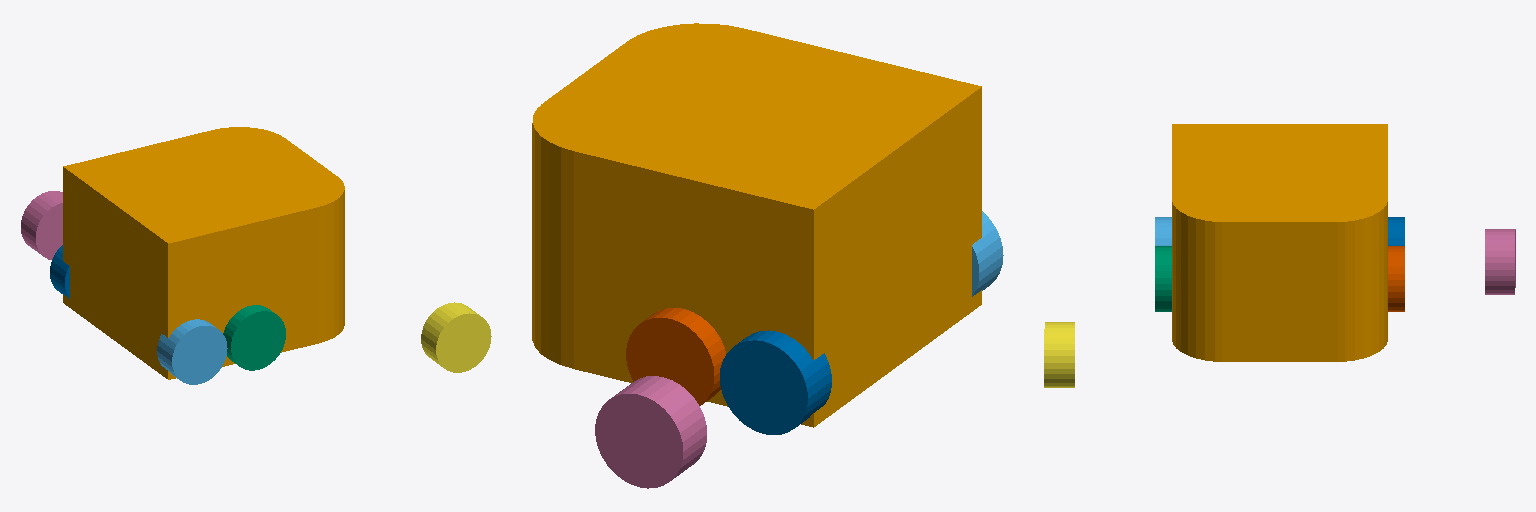
robot.urdf — [local-path]/Library/Mobile Documents/com~apple~CloudDocs/Deskto:
<?xml version="1.0"?>
<robot name="[local-path]/Library/Mobile Documents/com~apple~CloudDocs/Desktop/Roboland/Multi-Agent/BECOv2/simulation/BECOV2_ws/urdf/Koala.urdf" xmlns:xacro="http://ros.org/wiki/xacro">
  <link name="base_link">
    <visual>
      <origin xyz="0.025 0 0.105" rpy="0 0 0"/>
      <geometry>
        <box size="0.3 0.15 0.2"/>
      </geometry>
    </visual>
    <collision>
      <origin xyz="0.025 0 0.105" rpy="0 0 0"/>
      <geometry>
        <box size="0.3 0.15 0.2"/>
      </geometry>
    </collision>
    <visual>
      <origin xyz="-0.01 0 0.105" rpy="0 0 0"/>
      <geometry>
        <box size="0.23 0.28 0.2"/>
      </geometry>
    </visual>
    <collision>
      <origin xyz="-0.01 0 0.105" rpy="0 0 0"/>
      <geometry>
        <box size="0.23 0.28 0.2"/>
      </geometry>
    </collision>
    <visual>
      <origin xyz="0.105 -0.07 0.105" rpy="0 0 0"/>
      <geometry>
        <cylinder radius="0.07" length="0.2"/>
      </geometry>
    </visual>
    <collision>
      <origin xyz="0.105 -0.07 0.105" rpy="0 0 0"/>
      <geometry>
        <cylinder radius="0.07" length="0.2"/>
      </geometry>
    </collision>
    <visual>
      <origin xyz="0.105 0.07 0.105" rpy="0 0 0"/>
      <geometry>
        <cylinder radius="0.07" length="0.2"/>
      </geometry>
    </visual>
    <collision>
      <origin xyz="0.105 0.07 0.105" rpy="0 0 0"/>
      <geometry>
        <cylinder radius="0.07" length="0.2"/>
      </geometry>
    </collision>
  </link>
  <link name="ds15">
  </link>
  <joint name="base_link_ds15_joint" type="fixed">
    <parent link="base_link"/>
    <child link="ds15"/>
    <origin xyz="0.175 0.015 0.102" rpy="1.570807 -0.000005 0.100001"/>
  </joint>
  <link name="ds14">
  </link>
  <joint name="base_link_ds14_joint" type="fixed">
    <parent link="base_link"/>
    <child link="ds14"/>
    <origin xyz="0.169 0.04 0.102" rpy="1.570806 -0.000005 0.2"/>
  </joint>
  <link name="ds13">
  </link>
  <joint name="base_link_ds13_joint" type="fixed">
    <parent link="base_link"/>
    <child link="ds13"/>
    <origin xyz="0.16 0.07 0.102" rpy="1.570806 -0.000007 0.300001"/>
  </joint>
  <link name="ds12">
  </link>
  <joint name="base_link_ds12_joint" type="fixed">
    <parent link="base_link"/>
    <child link="ds12"/>
    <origin xyz="0.14 0.125 0.102" rpy="1.570801 -0.00001 0.8"/>
  </joint>
  <link name="ds11">
  </link>
  <joint name="base_link_ds11_joint" type="fixed">
    <parent link="base_link"/>
    <child link="ds11"/>
    <origin xyz="0.055 0.14 0.102" rpy="1.570793 -0.000011 1.57079"/>
  </joint>
  <link name="ds10">
  </link>
  <joint name="base_link_ds10_joint" type="fixed">
    <parent link="base_link"/>
    <child link="ds10"/>
    <origin xyz="-0.05 0.14 0.102" rpy="1.570793 -0.00001 1.57099"/>
  </joint>
  <link name="ds9">
  </link>
  <joint name="base_link_ds9_joint" type="fixed">
    <parent link="base_link"/>
    <child link="ds9"/>
    <origin xyz="-0.12 0.125 0.102" rpy="1.570787 -0.000005 2.352385"/>
  </joint>
  <link name="ds8">
  </link>
  <joint name="base_link_ds8_joint" type="fixed">
    <parent link="base_link"/>
    <child link="ds8"/>
    <origin xyz="-0.13 0.0475 0.107" rpy="1.570786 0.000005 3.141587"/>
  </joint>
  <link name="ds7">
  </link>
  <joint name="base_link_ds7_joint" type="fixed">
    <parent link="base_link"/>
    <child link="ds7"/>
    <origin xyz="-0.13 -0.0475 0.107" rpy="1.570786 0.000005 3.141587"/>
  </joint>
  <link name="ds6">
  </link>
  <joint name="base_link_ds6_joint" type="fixed">
    <parent link="base_link"/>
    <child link="ds6"/>
    <origin xyz="-0.12 -0.125 0.102" rpy="1.57079 0.00001 -2.4232"/>
  </joint>
  <link name="ds5">
  </link>
  <joint name="base_link_ds5_joint" type="fixed">
    <parent link="base_link"/>
    <child link="ds5"/>
    <origin xyz="-0.05 -0.14 0.102" rpy="1.5708 0.00001 -1.5708"/>
  </joint>
  <link name="ds4">
  </link>
  <joint name="base_link_ds4_joint" type="fixed">
    <parent link="base_link"/>
    <child link="ds4"/>
    <origin xyz="0.055 -0.14 0.102" rpy="1.5708 0.00001 -1.5708"/>
  </joint>
  <link name="ds3">
  </link>
  <joint name="base_link_ds3_joint" type="fixed">
    <parent link="base_link"/>
    <child link="ds3"/>
    <origin xyz="0.14 -0.12 0.102" rpy="1.570806 0.000005 -0.800003"/>
  </joint>
  <link name="ds2">
  </link>
  <joint name="base_link_ds2_joint" type="fixed">
    <parent link="base_link"/>
    <child link="ds2"/>
    <origin xyz="0.16 -0.07 0.102" rpy="1.570808 0 -0.3"/>
  </joint>
  <link name="ds1">
  </link>
  <joint name="base_link_ds1_joint" type="fixed">
    <parent link="base_link"/>
    <child link="ds1"/>
    <origin xyz="0.169 -0.04 0.102" rpy="1.570807 -0.000001 -0.2"/>
  </joint>
  <link name="ds0">
  </link>
  <joint name="base_link_ds0_joint" type="fixed">
    <parent link="base_link"/>
    <child link="ds0"/>
    <origin xyz="0.175 -0.015 0.102" rpy="1.570807 -0.000002 -0.1"/>
  </joint>
  <link name="wheel(6)">
    <visual>
      <origin xyz="0 0 0" rpy="0 1.57 0"/>
      <geometry>
        <cylinder radius="0.0425" length="0.04"/>
      </geometry>
    </visual>
    <collision>
      <origin xyz="0 0 0" rpy="0 1.57 0"/>
      <geometry>
        <cylinder radius="0.0425" length="0.04"/>
      </geometry>
    </collision>
  </link>
  <joint name="base_link_wheel(6)_joint" type="fixed">
    <parent link="base_link"/>
    <child link="wheel(6)"/>
    <origin xyz="-0.09 -0.1425 0.0425" rpy="1.5708 0.00001 -1.5708"/>
  </joint>
  <joint name="right wheel motor" type="continuous">
    <parent link="base_link"/>
    <child link="wheel(5)"/>
    <axis xyz="-1 0.000007 -0.000007"/>
    <limit effort="10" velocity="10"/>
    <origin xyz="0 0 0.0425" rpy="-1.100522 0.00001 -1.5708"/>
  </joint>
  <link name="wheel(5)">
    <visual>
      <origin xyz="0.1425 -0.000001 0.000001" rpy="0 1.57 0"/>
      <geometry>
        <cylinder radius="0.0425" length="0.04"/>
      </geometry>
    </visual>
    <collision>
      <origin xyz="0.1425 -0.000001 0.000001" rpy="0 1.57 0"/>
      <geometry>
        <cylinder radius="0.0425" length="0.04"/>
      </geometry>
    </collision>
  </link>
  <link name="wheel(4)">
    <visual>
      <origin xyz="0.1425 -0.000001 0.000001" rpy="0 1.57 0"/>
      <geometry>
        <cylinder radius="0.0425" length="0.04"/>
      </geometry>
    </visual>
    <collision>
      <origin xyz="0.1425 -0.000001 0.000001" rpy="0 1.57 0"/>
      <geometry>
        <cylinder radius="0.0425" length="0.04"/>
      </geometry>
    </collision>
  </link>
  <joint name="base_link_wheel(4)_joint" type="fixed">
    <parent link="base_link"/>
    <child link="wheel(4)"/>
    <origin xyz="0.2325 -0.142501 0.042501" rpy="1.5708 0.00001 -1.5708"/>
  </joint>
  <link name="wheel(3)">
    <visual>
      <origin xyz="0 0 0" rpy="0 1.57 0"/>
      <geometry>
        <cylinder radius="0.0425" length="0.04"/>
      </geometry>
    </visual>
    <collision>
      <origin xyz="0 0 0" rpy="0 1.57 0"/>
      <geometry>
        <cylinder radius="0.0425" length="0.04"/>
      </geometry>
    </collision>
  </link>
  <joint name="base_link_wheel(3)_joint" type="fixed">
    <parent link="base_link"/>
    <child link="wheel(3)"/>
    <origin xyz="-0.09 0.1425 0.0425" rpy="1.5708 0.00001 -1.5708"/>
  </joint>
  <joint name="left wheel motor" type="continuous">
    <parent link="base_link"/>
    <child link="wheel(2)"/>
    <axis xyz="-1 -0.000002 -0.00001"/>
    <limit effort="10" velocity="10"/>
    <origin xyz="0 0 0.0425" rpy="-0.184141 0.00001 -1.5708"/>
  </joint>
  <link name="wheel(2)">
    <visual>
      <origin xyz="-0.1425 0 -0.000001" rpy="0 1.57 0"/>
      <geometry>
        <cylinder radius="0.0425" length="0.04"/>
      </geometry>
    </visual>
    <collision>
      <origin xyz="-0.1425 0 -0.000001" rpy="0 1.57 0"/>
      <geometry>
        <cylinder radius="0.0425" length="0.04"/>
      </geometry>
    </collision>
  </link>
  <link name="wheel(1)">
    <visual>
      <origin xyz="-0.1425 0 -0.000001" rpy="0 1.57 0"/>
      <geometry>
        <cylinder radius="0.0425" length="0.04"/>
      </geometry>
    </visual>
    <collision>
      <origin xyz="-0.1425 0 -0.000001" rpy="0 1.57 0"/>
      <geometry>
        <cylinder radius="0.0425" length="0.04"/>
      </geometry>
    </collision>
  </link>
  <joint name="base_link_wheel(1)_joint" type="fixed">
    <parent link="base_link"/>
    <child link="wheel(1)"/>
    <origin xyz="-0.0525 0.1425 0.042499" rpy="1.5708 0.00001 -1.5708"/>
  </joint>
</robot>

--- Facts derived from the render (not from the file) ---
3 views of the same robot in one strip: view 1: azimuth 30°, elevation 25°; view 2: azimuth 150°, elevation 25°; view 3: azimuth 270°, elevation 25° (orthographic).
Model [local-path]/Library/Mobile Documents/com~apple~CloudDocs/Deskto with 23 links and 22 joints (2 continuous, 20 fixed), rooted at base_link, posed all joints at 0.
Visible links, largest first — view 1: base_link, wheel(4), wheel(6), wheel(5), wheel(1), wheel(3); view 2: base_link, wheel(1), wheel(3), wheel(2), wheel(6); view 3: base_link, wheel(4), wheel(1), wheel(5), wheel(2).
Boxes of the visible links, x1,y1,x2,y2 form: base_link: [63, 127, 344, 379]; wheel(4): [421, 302, 491, 372]; wheel(6): [157, 319, 227, 384]; wheel(5): [223, 305, 285, 370]; wheel(1): [21, 191, 62, 259]; wheel(3): [50, 245, 69, 298]; base_link: [532, 23, 981, 427]; wheel(1): [595, 376, 706, 488]; wheel(3): [720, 330, 831, 434]; wheel(2): [626, 308, 725, 405]; wheel(6): [972, 211, 1003, 296]; base_link: [1172, 124, 1387, 361]; wheel(4): [1044, 322, 1074, 387]; wheel(1): [1485, 229, 1515, 294]; wheel(5): [1155, 246, 1171, 311]; wheel(2): [1388, 246, 1404, 311].
Bounding box of the posed robot: 0.4075 × 0.6101 × 0.205 m (x, y, z).
Geometry: primitives only (box / cylinder / sphere), no mesh files.
